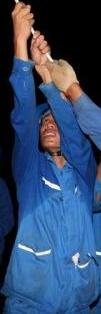gloves: (44, 57, 79, 93), (0, 226, 15, 259)
hard-hat: (0, 134, 18, 164)
ppe-suit: (0, 169, 41, 313)
